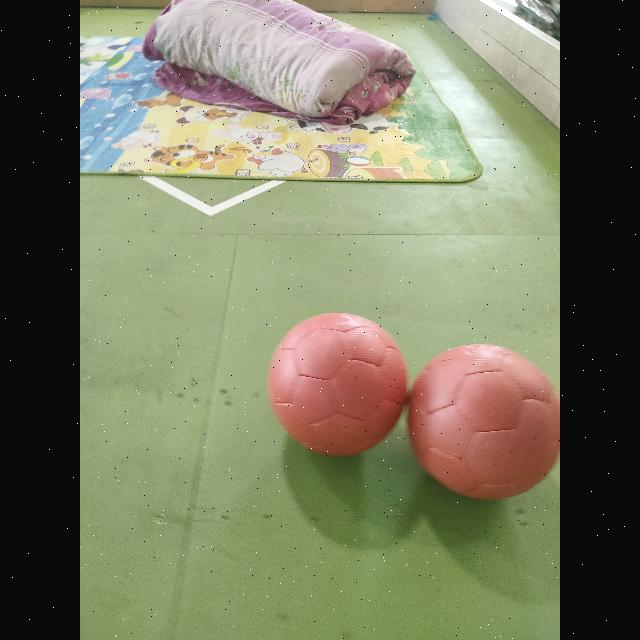R: (408, 345, 560, 499), (268, 313, 408, 455)
